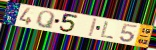4: (19, 7, 34, 26)
5: (58, 13, 80, 34), (119, 23, 139, 43)
I: (88, 17, 99, 37)
L: (99, 21, 115, 40)
Q: (35, 10, 56, 31)
